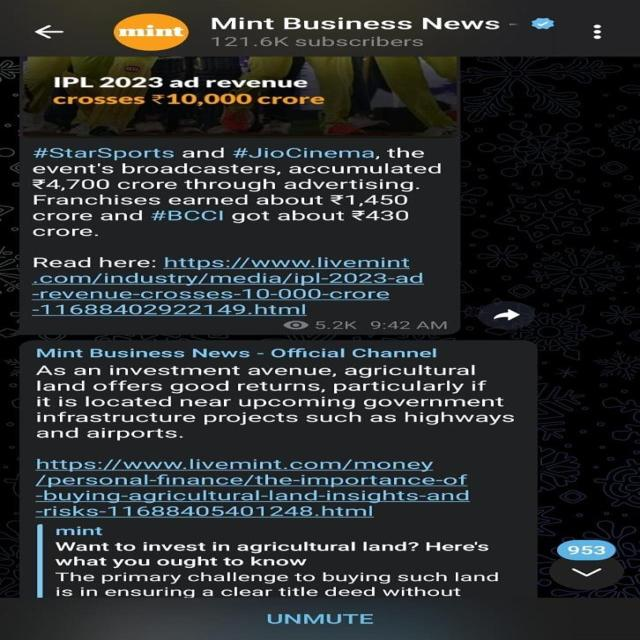Drawer: (548, 540, 626, 590), (208, 17, 504, 30), (112, 12, 188, 50), (214, 36, 426, 49), (478, 300, 536, 330), (37, 24, 69, 40), (592, 24, 604, 41)
EditText: (25, 54, 459, 138), (281, 317, 310, 332), (532, 18, 557, 30)
Icon: (35, 458, 478, 519), (31, 271, 429, 316), (37, 346, 440, 358), (164, 256, 412, 270), (231, 148, 379, 160), (35, 147, 176, 157), (153, 208, 227, 222), (54, 528, 109, 538)
Image: (264, 611, 378, 627)
Modal: (40, 364, 524, 437), (55, 541, 508, 598), (32, 162, 444, 206), (230, 209, 408, 222), (28, 255, 158, 269), (314, 320, 450, 331), (30, 210, 147, 221), (31, 226, 103, 236), (180, 147, 223, 159), (386, 148, 426, 160)
